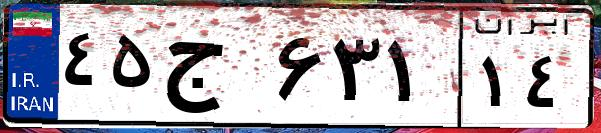1: (385, 28, 445, 110), (475, 38, 525, 113)
3: (330, 28, 385, 110)
4: (57, 26, 110, 100), (525, 38, 570, 115)
5: (110, 28, 158, 98)
6: (270, 28, 330, 110)
ج: (158, 20, 270, 120)
